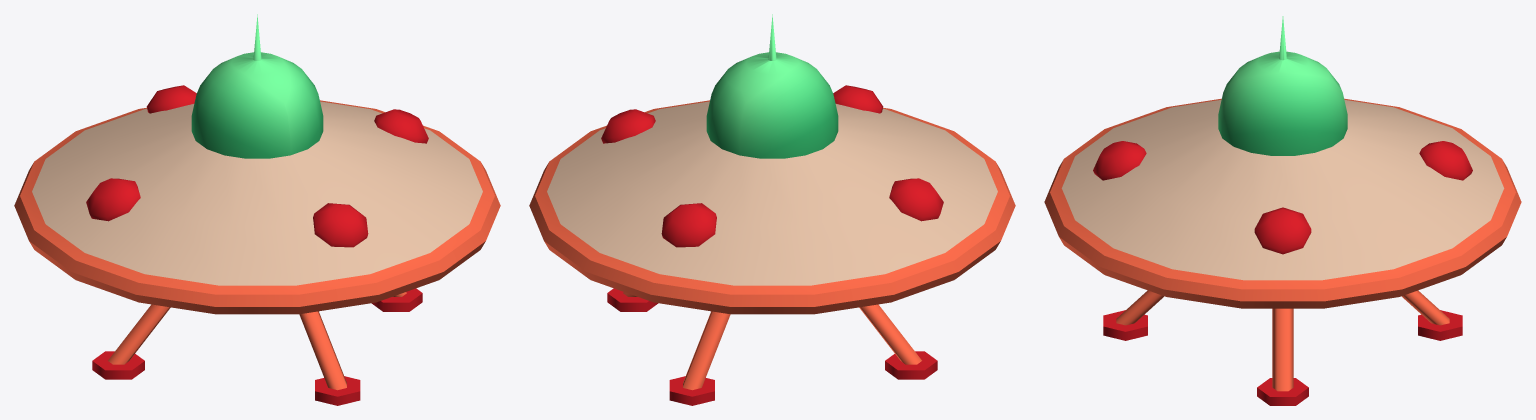
The model's file is island5pink-spaceship.fbx.
The picture shows the model from 3 angles, left to right: view 1: azimuth 30°, elevation 25°; view 2: azimuth 150°, elevation 25°; view 3: azimuth 270°, elevation 25°; orthographic projection.
Visible parts, largest first — view 1: island5(pink)-spaceship; view 2: island5(pink)-spaceship; view 3: island5(pink)-spaceship.
Boxes of the visible parts, x1=… form: island5(pink)-spaceship: x1=14, y1=14, x2=500, y2=405; island5(pink)-spaceship: x1=529, y1=14, x2=1015, y2=405; island5(pink)-spaceship: x1=1044, y1=16, x2=1521, y2=405.
Bounding box in the file's own units: 4.14 × 3.07 × 4.21.
Materials: 1 (1 with a texture image).
